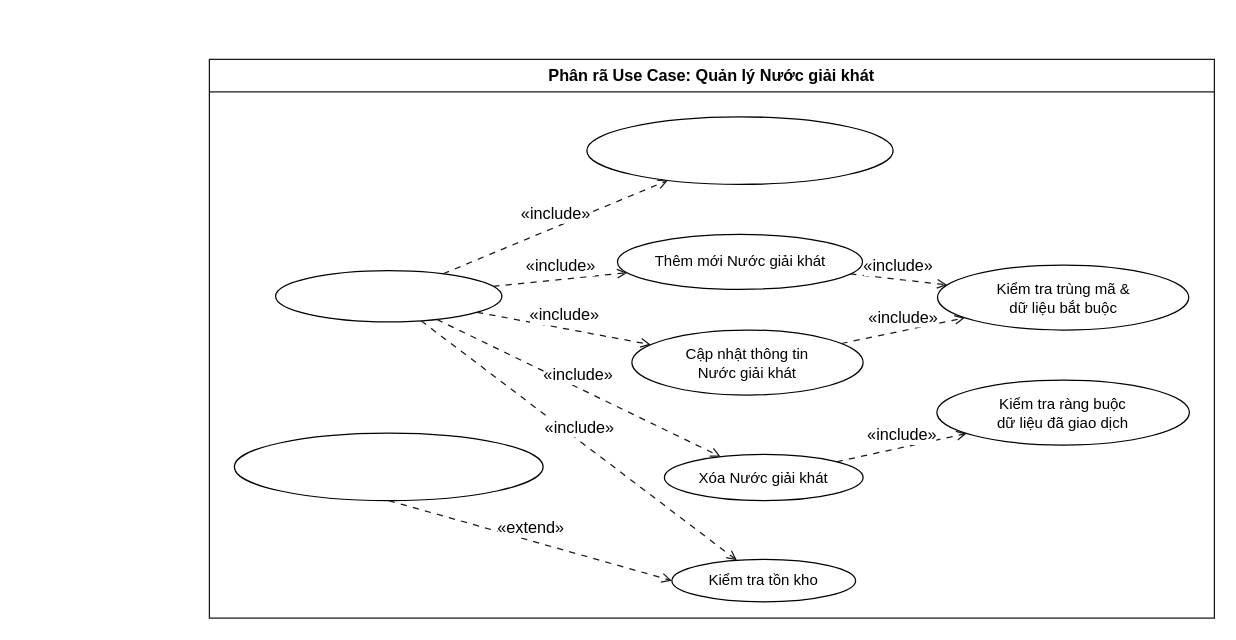
The diagram is 1236 pixels wide and 640 high, and some of its shapes have lost their labels. The shapes that lost their labels are listed below. From the top down, each one's centre as x and y in pixels, then its label:
At point (739, 150): "Tra cứu & Xem danh sách Nước giải khát".
At point (388, 295): "Quản lý Nước giải khát".
At point (388, 466): "Cảnh báo tồn kho dưới định mức / hết hàng".
